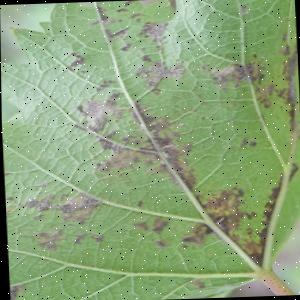Folha: (0, 0, 300, 300)
Fungo: (69, 84, 252, 252), (71, 89, 195, 195), (14, 179, 103, 252), (90, 103, 178, 174), (175, 186, 249, 246), (15, 191, 102, 227), (143, 144, 195, 193), (92, 135, 153, 173), (132, 53, 185, 96), (73, 93, 122, 133), (176, 212, 227, 248), (199, 63, 254, 93), (117, 21, 168, 52), (199, 185, 244, 217), (92, 149, 140, 173), (16, 194, 60, 220), (56, 192, 101, 214), (73, 99, 118, 120), (177, 223, 214, 246), (30, 228, 65, 252), (136, 22, 168, 43), (129, 218, 167, 235), (166, 170, 195, 192), (151, 64, 184, 80), (58, 210, 91, 225), (95, 130, 118, 150), (105, 25, 130, 42), (64, 52, 85, 72), (204, 212, 227, 230), (178, 234, 203, 247), (148, 218, 167, 235), (7, 283, 24, 300), (93, 80, 114, 92), (150, 238, 168, 250), (237, 138, 255, 148), (188, 280, 203, 290), (130, 222, 146, 231), (71, 234, 85, 244), (88, 234, 103, 243), (118, 43, 132, 52), (128, 13, 146, 20), (237, 138, 247, 148), (139, 54, 151, 62), (30, 214, 42, 220), (36, 182, 46, 188), (247, 141, 255, 147), (134, 201, 142, 207), (4, 197, 12, 202), (225, 120, 233, 124)
